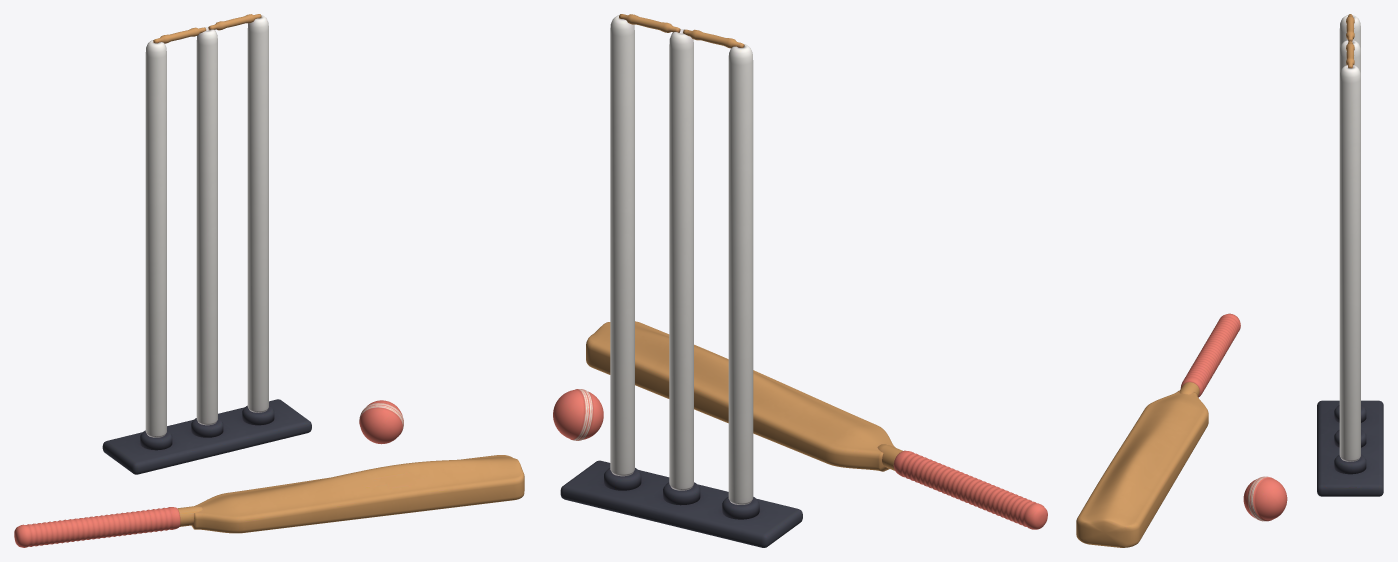
The model's file is grab3d-cricket-bat.glb.
The picture shows the model from 3 angles, left to right: view 1: azimuth 30°, elevation 25°; view 2: azimuth 150°, elevation 25°; view 3: azimuth 270°, elevation 25°; orthographic projection. The views are drawn at different scales.
Visible parts, largest first — view 1: cricket-bat_body; view 2: cricket-bat_body; view 3: cricket-bat_body.
Boxes of the visible parts, x1,y1,x2,y2 form: cricket-bat_body: (14,14,524,547); cricket-bat_body: (553,14,1047,547); cricket-bat_body: (1076,14,1383,547).
Bounding box in the file's own units: 0.8451 × 0.7584 × 0.5067.
Materials: 1 (1 with a texture image).
